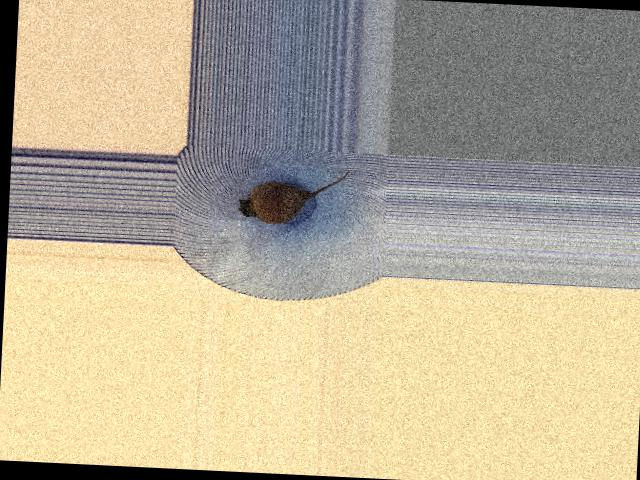beet: (237, 165, 348, 226)
